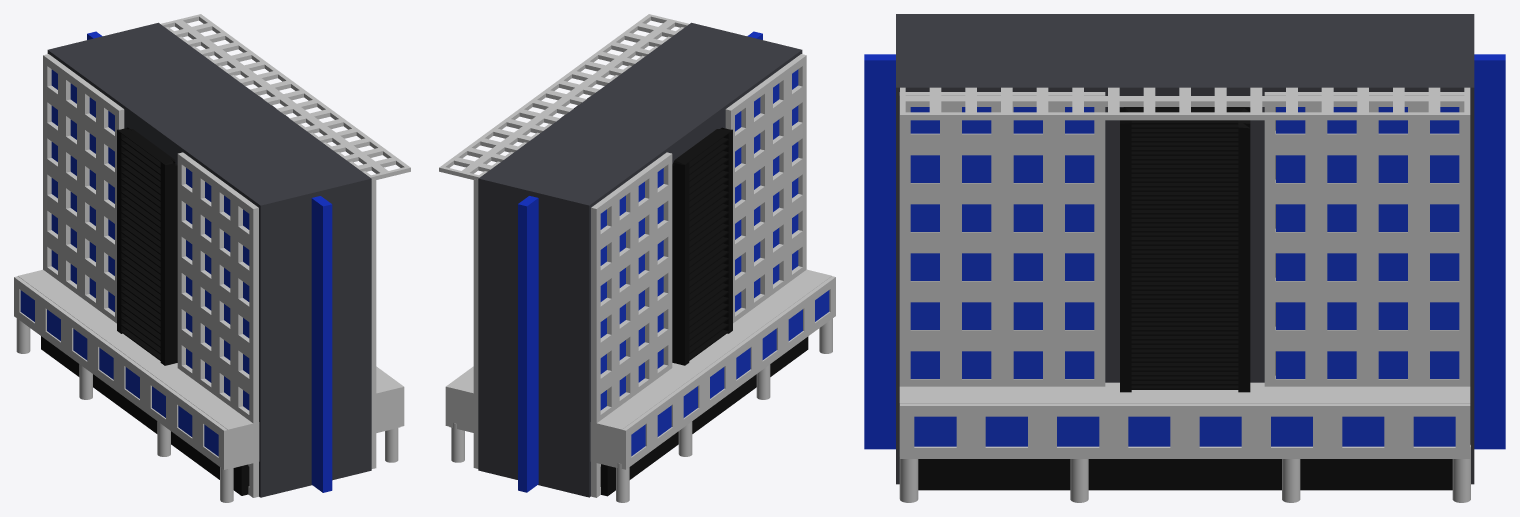
The picture shows the model from 3 angles, left to right: view 1: azimuth 30°, elevation 25°; view 2: azimuth 150°, elevation 25°; view 3: azimuth 270°, elevation 25°; orthographic projection. The views are drawn at different scales.
Parts seen in each view (by area): view 1: Cube013; view 2: Cube013; view 3: Cube013.
Part boxes in pixels (<box>): Cube013: <box>14,14,410,502</box>; Cube013: <box>439,14,835,502</box>; Cube013: <box>864,14,1505,502</box>.
Bounding box in the file's own units: 9.09 × 13.58 × 19.89.
